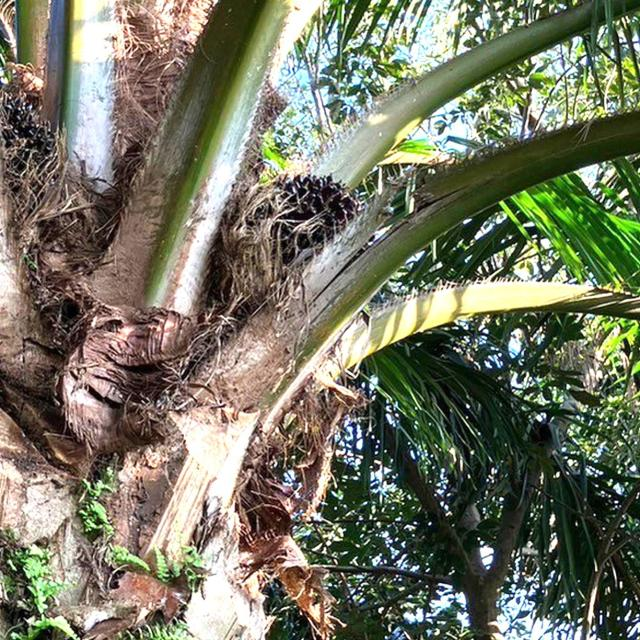almost: (230, 162, 368, 277)
